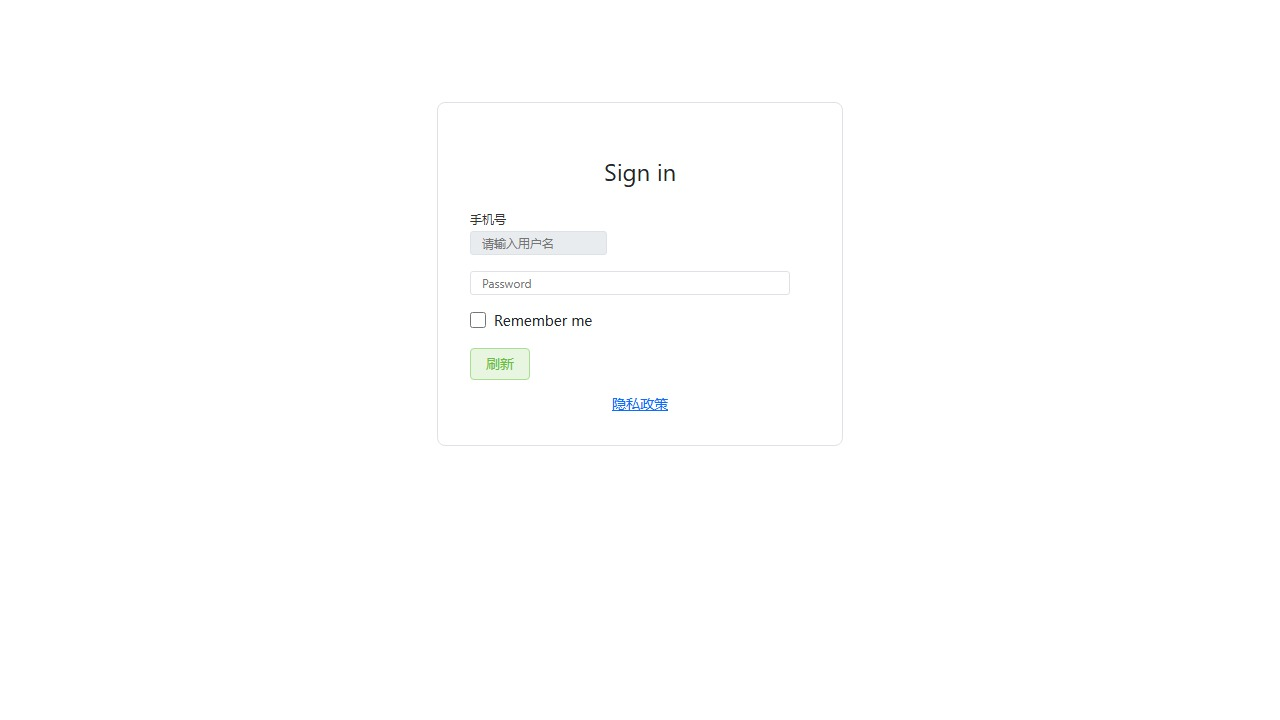button: (470, 348, 530, 380)
checkbox: (470, 312, 486, 328)
icon: (494, 311, 592, 330)
input: (470, 271, 790, 295), (470, 231, 607, 255)
link: (612, 394, 668, 413)
radio: (470, 311, 592, 330)
